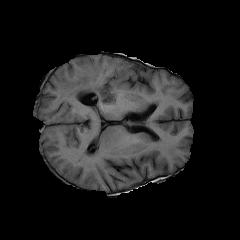glioma: (59, 71, 127, 110)
